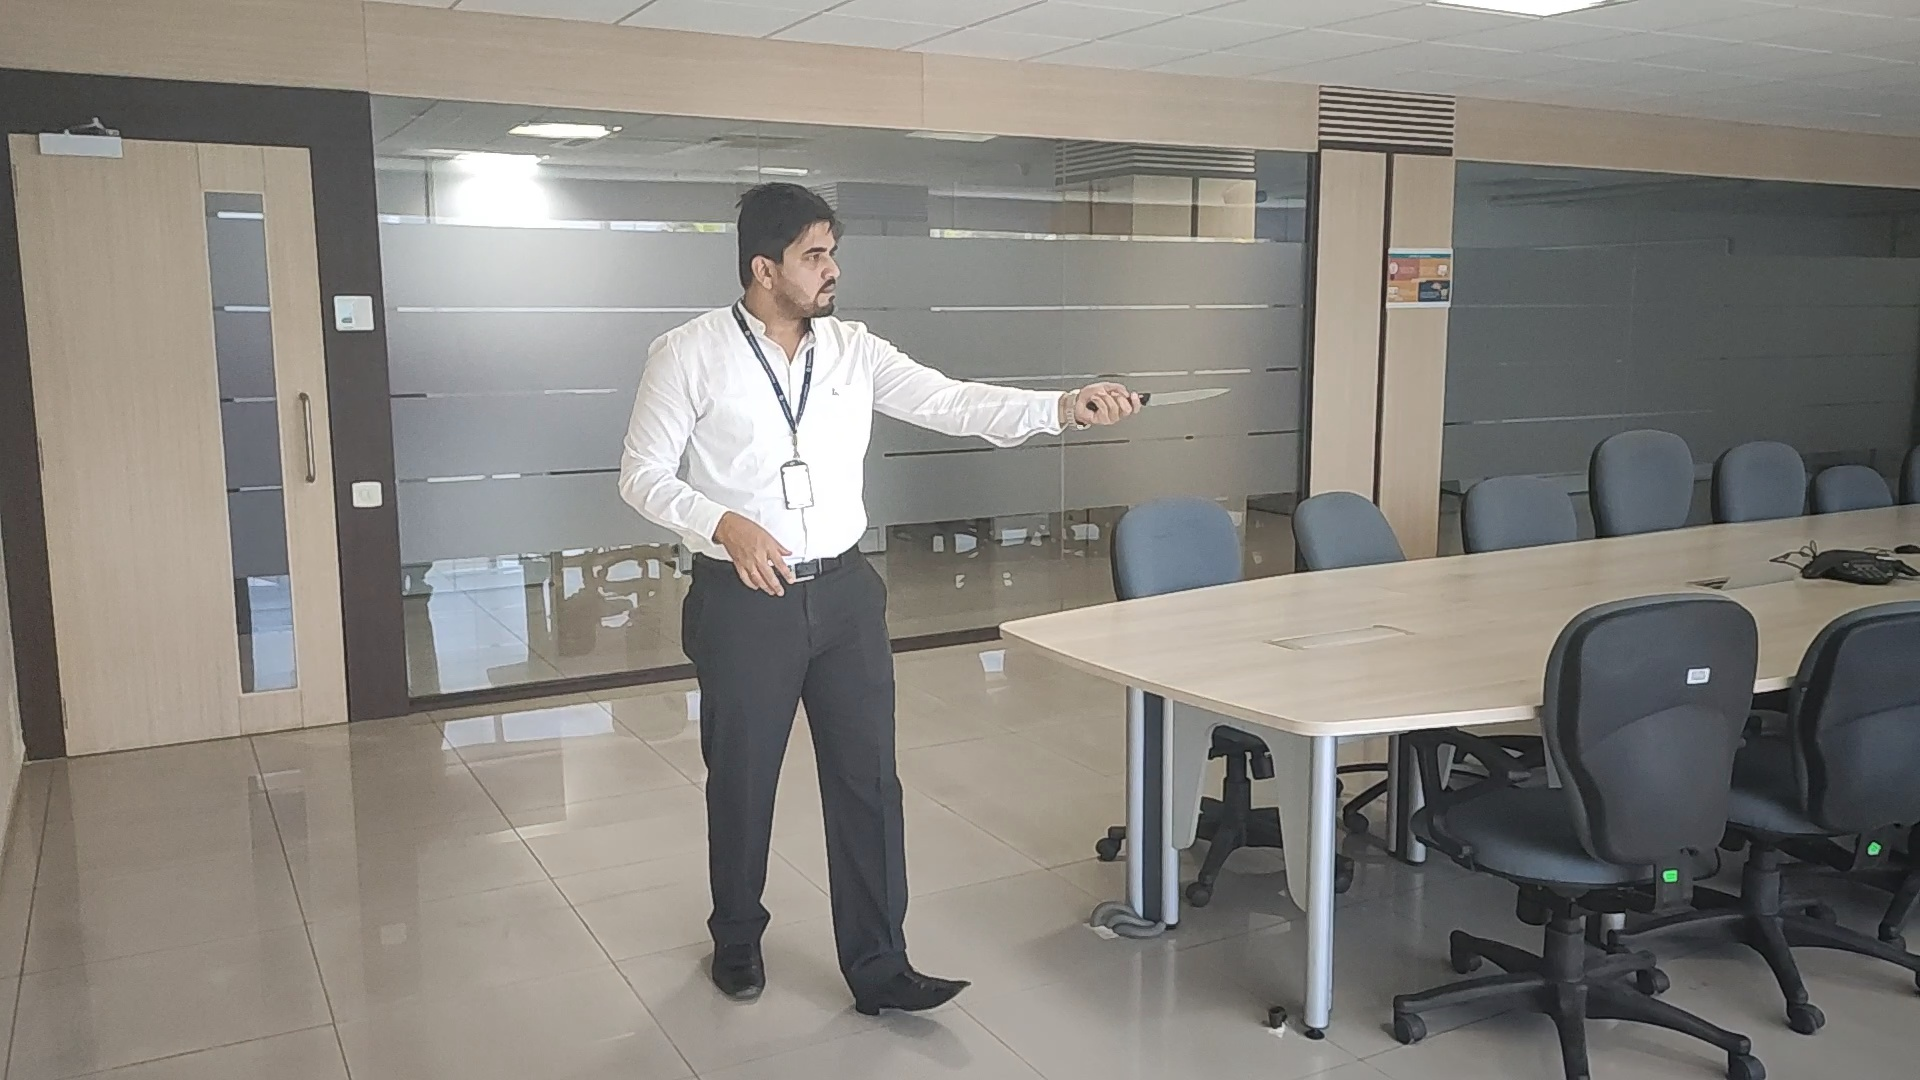knife: (1142, 386, 1232, 407)
